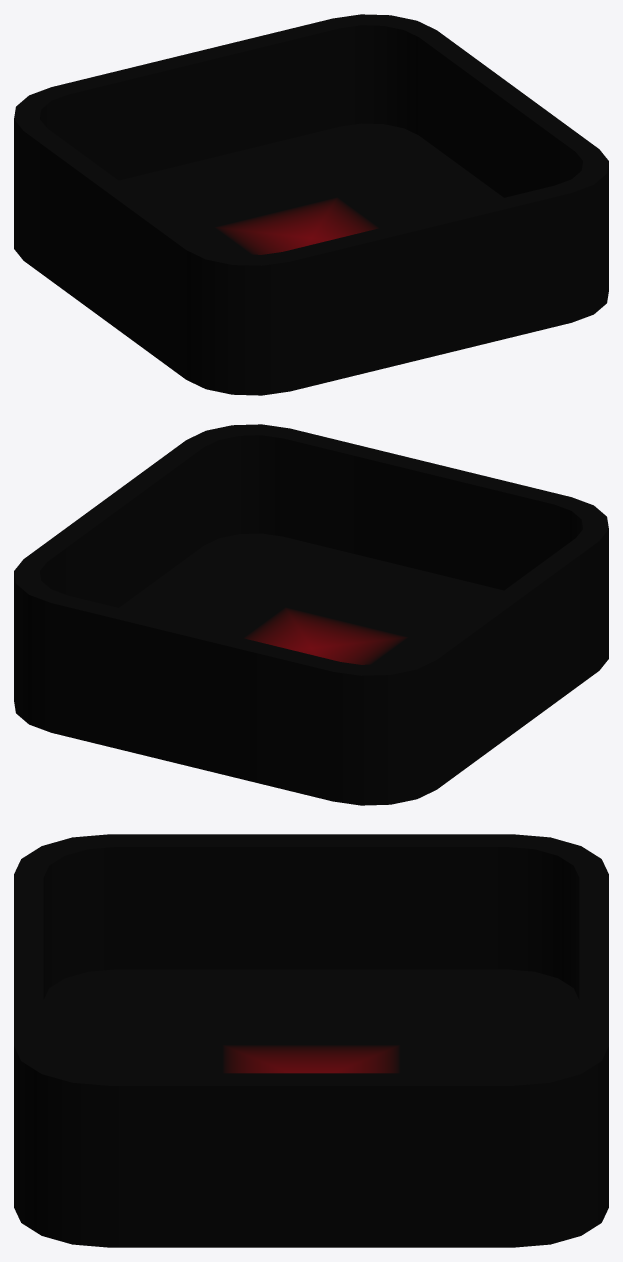
Rendered from Tile_Dead.End.fbx.
3 renders of one model, top to bottom at view 1: azimuth 30°, elevation 25°; view 2: azimuth 150°, elevation 25°; view 3: azimuth 270°, elevation 25°, orthographic. The views are drawn at different scales.
Parts seen in each view (by area): view 1: null_room; view 2: null_room; view 3: null_room.
Part boxes in pixels (left/top/right/bottom): null_room: left=14, top=14, right=608, bottom=395; null_room: left=14, top=424, right=608, bottom=805; null_room: left=14, top=834, right=608, bottom=1247.
Bounding box in the file's own units: 100 × 30 × 100.
